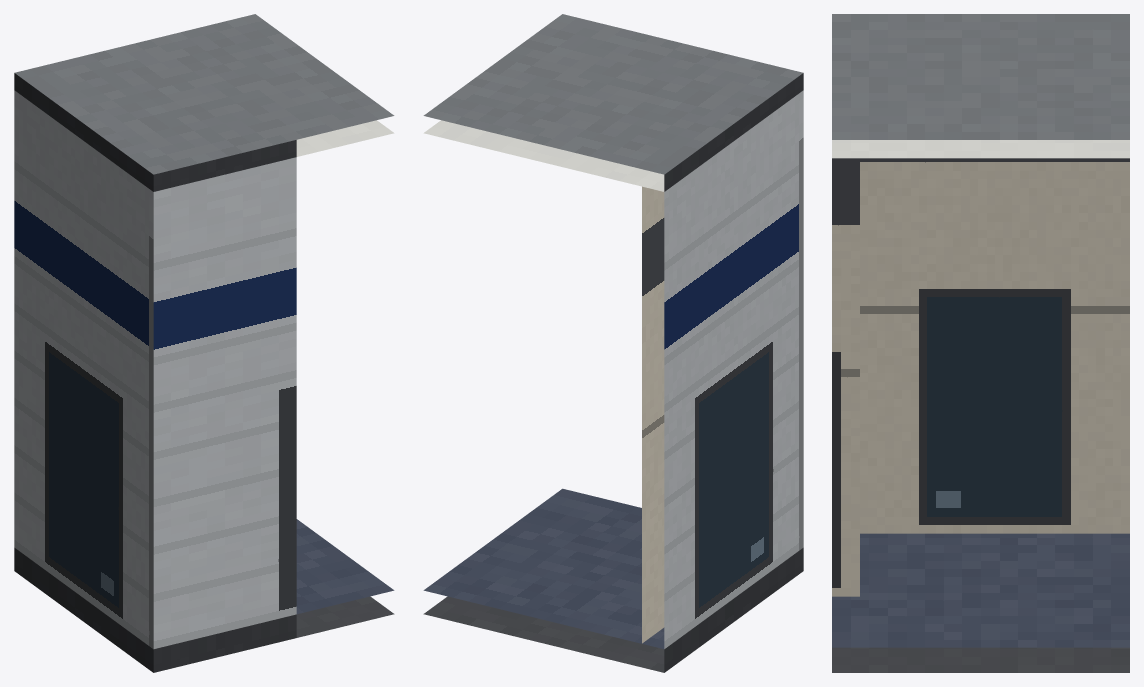
File: airport_jet_bridge_corner_c7.obj
The picture shows the model from 3 angles, left to right: view 1: azimuth 30°, elevation 25°; view 2: azimuth 150°, elevation 25°; view 3: azimuth 270°, elevation 25°; orthographic projection. The views are drawn at different scales.
Parts seen in each view (by area): view 1: airport_jet_bridge_corner_c7; view 2: airport_jet_bridge_corner_c7; view 3: airport_jet_bridge_corner_c7.
Boxes of the visible parts, x1,y1,x2,y2 form: airport_jet_bridge_corner_c7: (14,14,394,672); airport_jet_bridge_corner_c7: (423,14,803,672); airport_jet_bridge_corner_c7: (832,14,1129,672).
Size of the model in its own units: 1 by 1.98 by 1.
